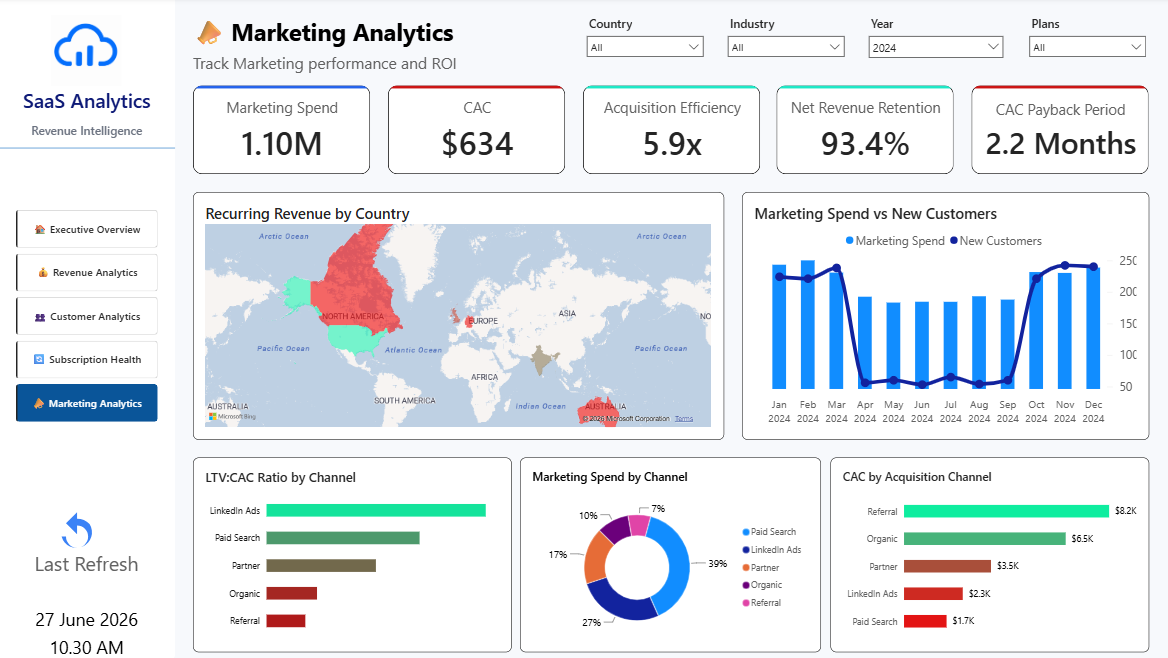

What the dashboard file says about the page in this screenshot:
{"tool":"powerbi","page":{"name":"📣 Marketing Analytics","canvas":[1600,900],"ordinal":4},"visuals":[{"type":"cardVisual","fields":{"Data":["_Measures_Executive.Marketing Spend"]},"box":[264,120,240,120],"z":0},{"type":"cardVisual","fields":{"Data":["_Measures_Executive.CAC"]},"box":[528,120,240,120],"z":1000},{"type":"cardVisual","fields":{"Data":["_Measures_Marketing.LTV:CAC Ratio Display"]},"box":[792,120,240,120],"z":2000},{"type":"cardVisual","fields":{"Data":["_Measures_Marketing.Net Revenue Retention"]},"box":[1056,120,240,120],"z":3000},{"type":"textbox","box":[264,24,480,120],"z":4000},{"type":"shape","box":[0,-12,240,912],"z":5000},{"type":"textbox","box":[24,120,192,96],"z":6000},{"type":"shape","box":[0,168,240,72],"z":7000},{"type":"image","box":[72,24,96,96],"z":8000},{"type":"pageNavigator","box":[24,288,192,290],"z":9000},{"type":"slicer","fields":{"Values":["customers.country"]},"box":[792,24,168,72],"z":10000},{"type":"slicer","fields":{"Values":["customers.industry"]},"box":[984,24,168,72],"z":11000},{"type":"slicer","fields":{"Values":["Dim_Date.Year"]},"box":[1176,24,192,72],"z":12000},{"type":"slicer","fields":{"Values":["subscriptions.plan_type"]},"box":[1392,24,168,72],"z":13000},{"type":"cardVisual","fields":{"Data":["_Measures_Marketing.CAC Payback Period Display"]},"box":[1320,120,240,120],"z":14000},{"type":"clusteredBarChart","title":"LTV:CAC Ratio by Channel","fields":{"Y":["_Measures_Marketing.LTV:CAC"],"Category":["customers.acquisition_channel"]},"box":[264,624,432,264],"z":15000},{"type":"clusteredBarChart","title":"CAC by Acquisition Channel","fields":{"Y":["_Measures_Executive.CAC"],"Category":["customers.acquisition_channel"]},"box":[1128,624,432,264],"z":16000},{"type":"textbox","box":[0,636,240,264],"z":17000},{"type":"image","box":[72,696,72,72],"z":18000},{"type":"lineClusteredColumnComboChart","title":"Marketing Spend vs New Customers","fields":{"Y":["_Measures_Executive.Marketing Spend"],"Y2":["_Measures_Customers.New Customers"],"Category":["Dim_Date.Month Year"]},"box":[1008,264,552,336],"z":19000},{"type":"donutChart","title":"Marketing Spend by Channel","fields":{"Y":["_Measures_Executive.Marketing Spend"],"Category":["marketing_spend.channel"]},"box":[708,624,408,264],"z":20000},{"type":"filledMap","title":"Recurring Revenue by Country","fields":{"Category":["subscriptions.country"]},"box":[264,264,720,336],"z":21001}]}

Visuals, with their boxes on the page's 1600x900 design canvas (x1, y1, x2, y2). These are canvas units, not pixel positions in the 1168x658 screenshot, which may show the page scaled, cropped or inside an application window:
cardVisual - _Measures_Executive.Marketing Spend: box=[264, 120, 504, 240]
cardVisual - _Measures_Executive.CAC: box=[528, 120, 768, 240]
cardVisual - _Measures_Marketing.LTV:CAC Ratio Display: box=[792, 120, 1032, 240]
cardVisual - _Measures_Marketing.Net Revenue Retention: box=[1056, 120, 1296, 240]
textbox: box=[264, 24, 744, 144]
shape: box=[0, -12, 240, 900]
textbox: box=[24, 120, 216, 216]
shape: box=[0, 168, 240, 240]
image: box=[72, 24, 168, 120]
pageNavigator: box=[24, 288, 216, 578]
slicer - customers.country: box=[792, 24, 960, 96]
slicer - customers.industry: box=[984, 24, 1152, 96]
slicer - Dim_Date.Year: box=[1176, 24, 1368, 96]
slicer - subscriptions.plan_type: box=[1392, 24, 1560, 96]
cardVisual - _Measures_Marketing.CAC Payback Period Display: box=[1320, 120, 1560, 240]
"LTV:CAC Ratio by Channel" clusteredBarChart: box=[264, 624, 696, 888]
"CAC by Acquisition Channel" clusteredBarChart: box=[1128, 624, 1560, 888]
textbox: box=[0, 636, 240, 900]
image: box=[72, 696, 144, 768]
"Marketing Spend vs New Customers" lineClusteredColumnComboChart: box=[1008, 264, 1560, 600]
"Marketing Spend by Channel" donutChart: box=[708, 624, 1116, 888]
"Recurring Revenue by Country" filledMap: box=[264, 264, 984, 600]
